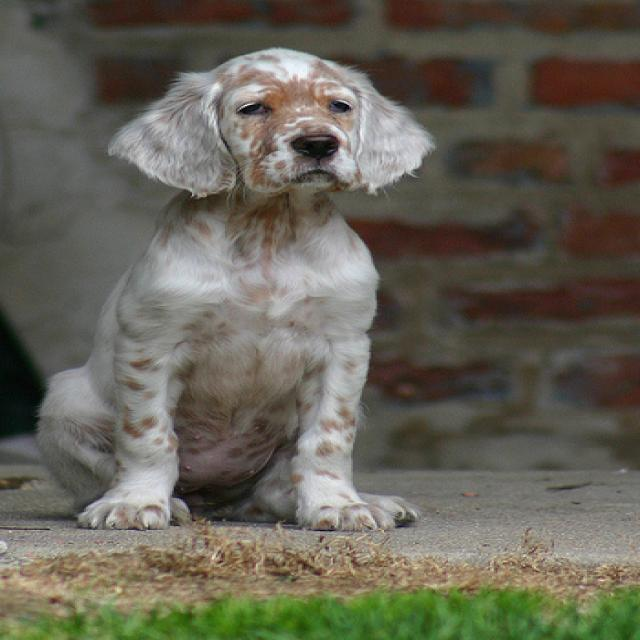dog-english_setter: (18, 41, 437, 539)
